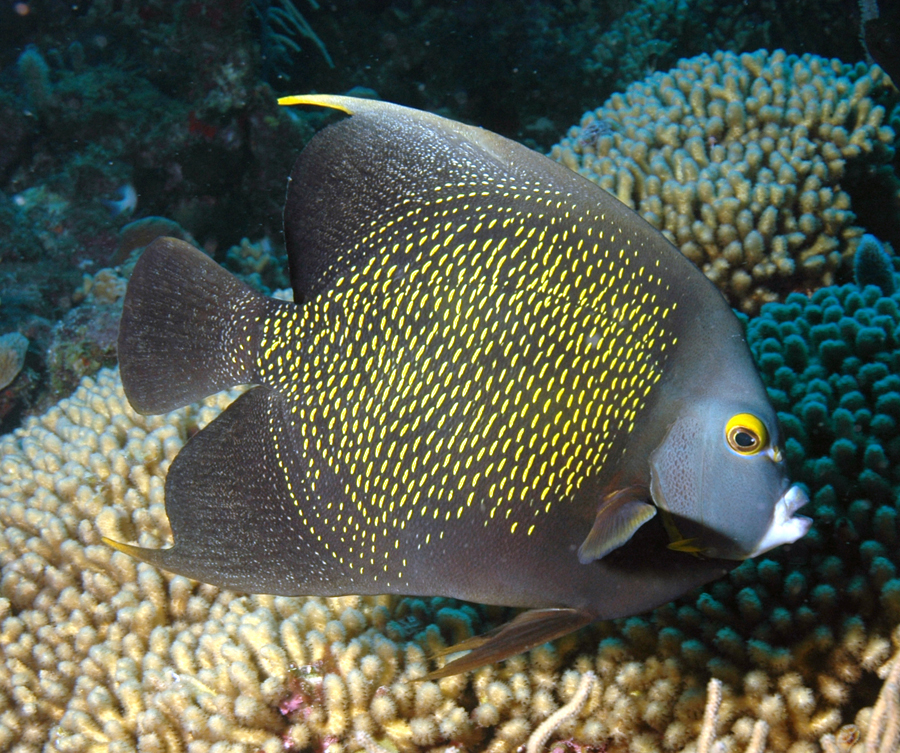Pomacanthus_paru: (105, 69, 842, 660)
